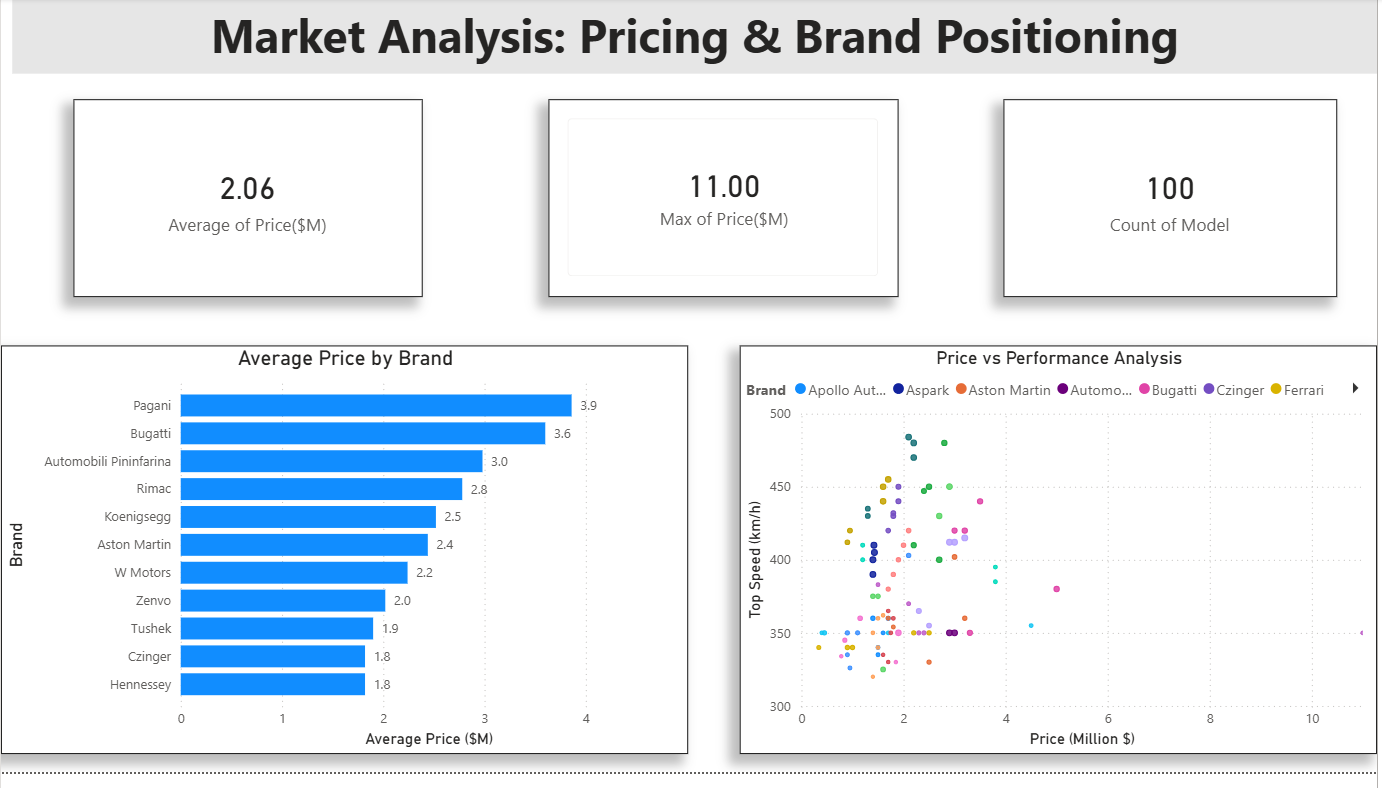

The page's visual inventory and layout, read from the dashboard file:
{"tool":"powerbi","page":{"name":"Market and Pricing Analysis","canvas":[1280,720],"ordinal":1},"visuals":[{"type":"textbox","box":[10.2,0,1269.7,70.1],"z":0},{"type":"card","fields":{"Values":["Avg(car_full_details.price_million)"]},"box":[67.4,94.2,324.4,183.7],"z":1000},{"type":"cardVisual","fields":{"Data":["Max(car_full_details.Price($M))"]},"box":[509.3,94.2,325.6,183.7],"z":2000},{"type":"card","fields":{"Values":["Count(car_full_details.model_name_fixed)"]},"box":[932.6,94.2,310.5,183.7],"z":3000},{"type":"clusteredBarChart","title":"Average Price by Brand","fields":{"Category":["car_full_details.Brand"],"Y":["Avg(car_full_details.Price($M))"]},"box":[0,323.3,639.5,380.2],"z":4000},{"type":"scatterChart","title":"Price vs Performance Analysis","fields":{"X":["car_full_details.Price($M)"],"Y":["car_full_details.Top Speed (kmph)"],"Size":["Avg(car_full_details.Horsepower(hp))"],"Series":["car_full_details.Brand"]},"box":[687.2,323.3,593,380.2],"z":5000}]}

Visuals, with their boxes in screenshot pixels (x1, y1, x2, y2), scaled from the page's 1280x720 canvas onto the 1382x788 screenshot:
textbox: [left=11, top=0, right=1381, bottom=77]
card - Avg(car_full_details.price_million): [left=73, top=103, right=423, bottom=304]
cardVisual - Max(car_full_details.Price($M)): [left=550, top=103, right=901, bottom=304]
card - Count(car_full_details.model_name_fixed): [left=1007, top=103, right=1342, bottom=304]
"Average Price by Brand" clusteredBarChart: [left=0, top=354, right=690, bottom=770]
"Price vs Performance Analysis" scatterChart: [left=742, top=354, right=1381, bottom=770]
